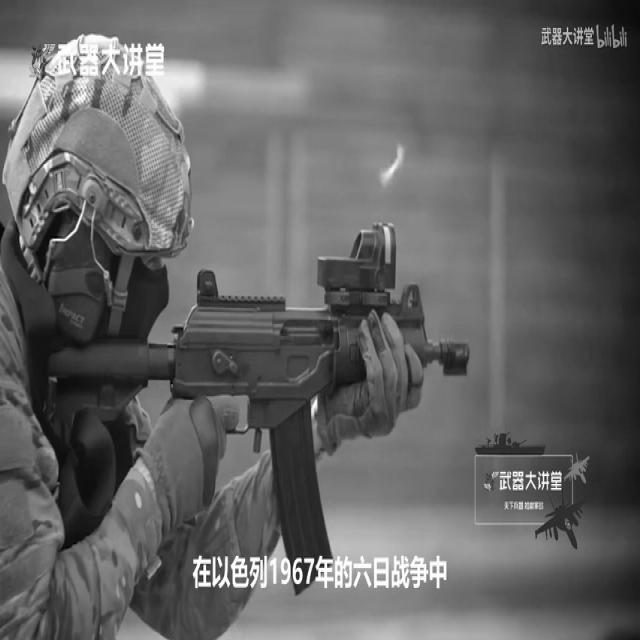Sub-machine-gun: (0, 207, 475, 640)
